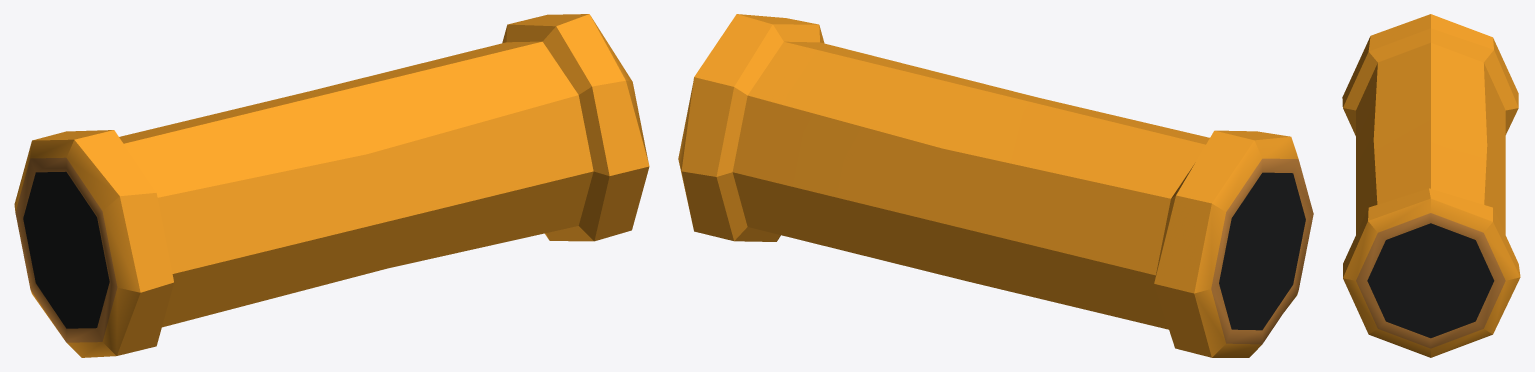
File: SM_Prop_Pipe_02.fbx
The picture shows the model from 3 angles, left to right: view 1: azimuth 30°, elevation 25°; view 2: azimuth 150°, elevation 25°; view 3: azimuth 270°, elevation 25°; orthographic projection. The views are drawn at different scales.
Parts seen in each view (by area): view 1: SM_Prop_Pipe_02; view 2: SM_Prop_Pipe_02; view 3: SM_Prop_Pipe_02.
Part boxes in pixels (bbox=[...]): SM_Prop_Pipe_02: bbox=[14, 14, 649, 357]; SM_Prop_Pipe_02: bbox=[678, 14, 1313, 357]; SM_Prop_Pipe_02: bbox=[1342, 14, 1520, 357].
Size of the model in its own units: 300 by 118 by 119.
